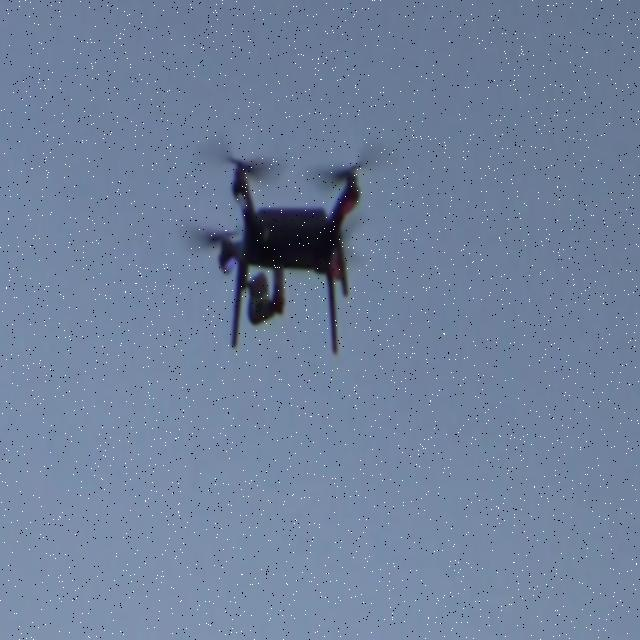UAV: (179, 132, 391, 356)
